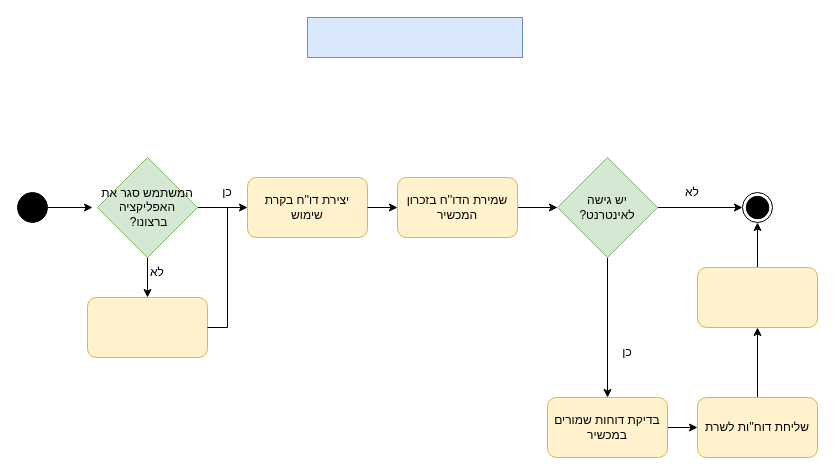
Some shapes in this 835 by 475 pixel diagram are drawn without their labels. Here are the shapes that lost their labels. From the top down, the box of each, then its label:
(306, 16, 522, 58): שליחת דו''ח לשרת
(696, 266, 818, 328): מחיקת דוחות שמורים
(86, 296, 208, 358): יצירת דו''ח יעודי לקריסה
